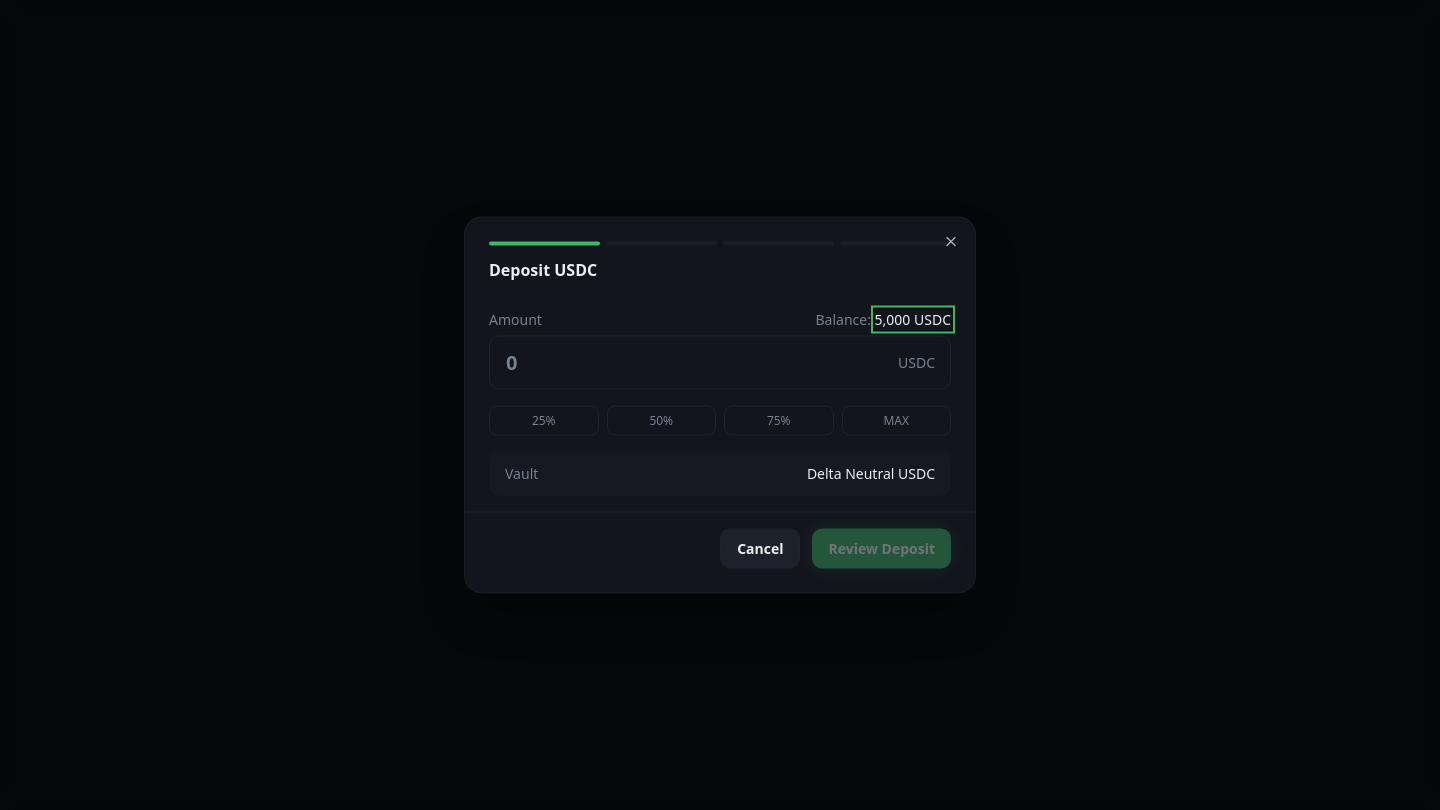
DepositModal › quick-select 50% fills half of balance
The image size is (1440, 810).
Click the button "50%".
click(661, 420)  # box [606,406,716,436]
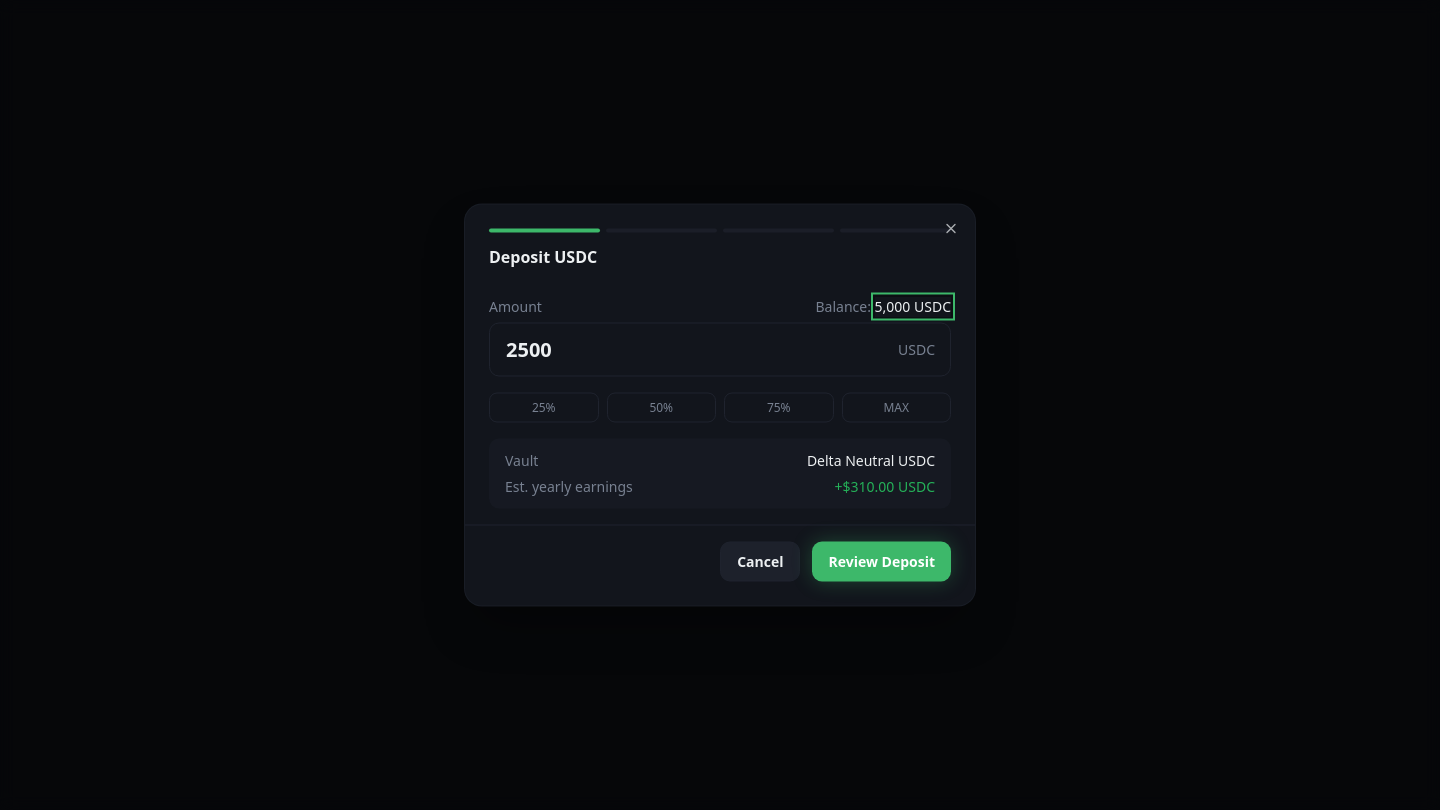
Result: the number field labelled "Amount" holds "2500" at [489,322,951,376]
